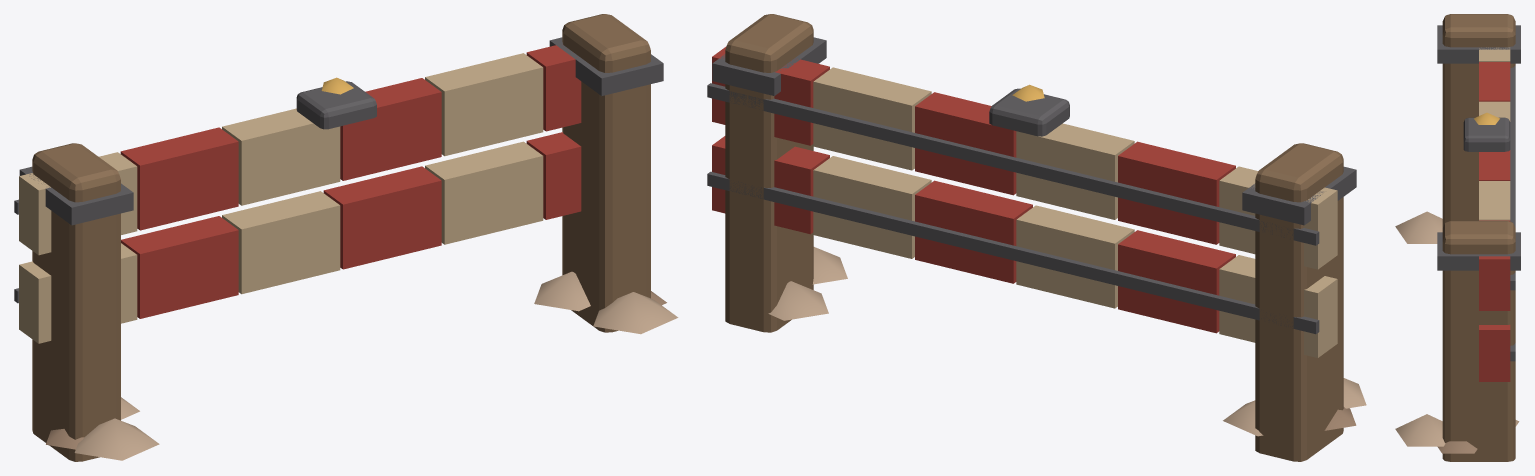
Rendered from rn2-canion-barrier.glb.
3 renders of one model, left to right at view 1: azimuth 30°, elevation 25°; view 2: azimuth 150°, elevation 25°; view 3: azimuth 270°, elevation 25°, orthographic. The views are drawn at different scales.
Parts seen in each view (by area): view 1: rn2_canion_barrier_body; view 2: rn2_canion_barrier_body; view 3: rn2_canion_barrier_body, rn2_canion_barrier_glow.
Boxes of the visible parts, x1,y1,x2,y2 form: rn2_canion_barrier_body: (14,14,678,461); rn2_canion_barrier_body: (707,14,1366,461); rn2_canion_barrier_body: (1395,14,1520,461); rn2_canion_barrier_glow: (1474,112,1499,124).
Size of the model in its own units: 2.18 by 1 by 0.4825.
